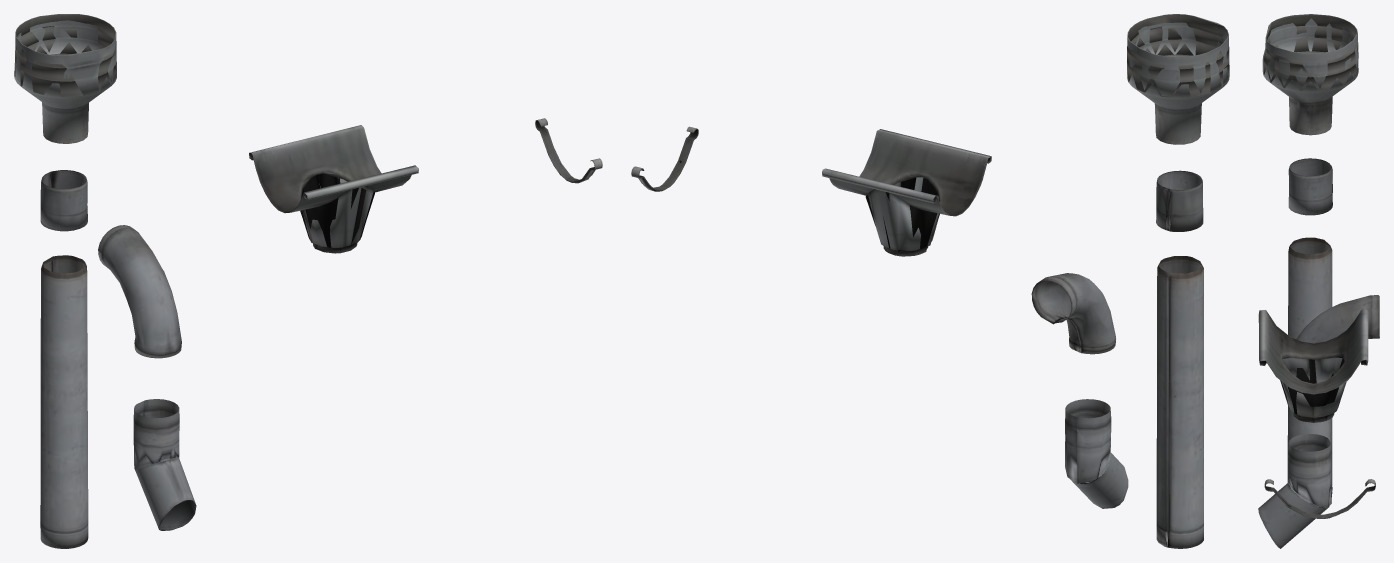
The model's file is modular_metal_gutter.glb.
3 views of the same model, side by side, from view 1: azimuth 30°, elevation 25°; view 2: azimuth 150°, elevation 25°; view 3: azimuth 270°, elevation 25° (orthographic). The views are drawn at different scales.
Visible parts, largest first — view 1: modular_metal_gutter_section, modular_metal_gutter_shower_receiver, modular_metal_gutter_funnel, modular_metal_gutter_bend, modular_metal_gutter_outlet, modular_metal_gutter_coupler, modular_metal_gutter_gutter_coupler; view 2: modular_metal_gutter_section, modular_metal_gutter_shower_receiver, modular_metal_gutter_funnel, modular_metal_gutter_outlet, modular_metal_gutter_bend, modular_metal_gutter_coupler, modular_metal_gutter_gutter_coupler; view 3: modular_metal_gutter_funnel, modular_metal_gutter_shower_receiver, modular_metal_gutter_outlet, modular_metal_gutter_section, modular_metal_gutter_coupler, modular_metal_gutter_bend, modular_metal_gutter_gutter_coupler.
Part boxes in pixels (x1,y1,x2,y2): modular_metal_gutter_section: (40,255,88,548); modular_metal_gutter_shower_receiver: (249,125,418,253); modular_metal_gutter_funnel: (14,14,116,143); modular_metal_gutter_bend: (98,225,181,358); modular_metal_gutter_outlet: (133,399,196,530); modular_metal_gutter_coupler: (40,170,87,231); modular_metal_gutter_gutter_coupler: (535,118,602,183); modular_metal_gutter_section: (1156,256,1203,548); modular_metal_gutter_shower_receiver: (822,129,991,256); modular_metal_gutter_funnel: (1127,14,1229,144); modular_metal_gutter_outlet: (1065,399,1128,508); modular_metal_gutter_bend: (1031,273,1115,354); modular_metal_gutter_coupler: (1156,170,1203,231); modular_metal_gutter_gutter_coupler: (631,126,698,191); modular_metal_gutter_funnel: (1262,14,1358,135); modular_metal_gutter_shower_receiver: (1258,309,1368,422); modular_metal_gutter_outlet: (1258,434,1331,548); modular_metal_gutter_section: (1287,237,1332,496); modular_metal_gutter_coupler: (1288,158,1332,215); modular_metal_gutter_bend: (1296,295,1379,343); modular_metal_gutter_gutter_coupler: (1264,479,1375,518).
Bounding box in the file's own units: 2.12 × 1.84 × 0.4314.
1 material, 1 textured.
